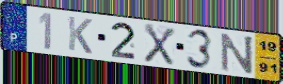1: (38, 12, 53, 51)
2: (110, 21, 137, 60)
3: (184, 28, 219, 71)
K: (67, 15, 94, 56)
N: (220, 32, 255, 75)
X: (143, 22, 177, 67)
